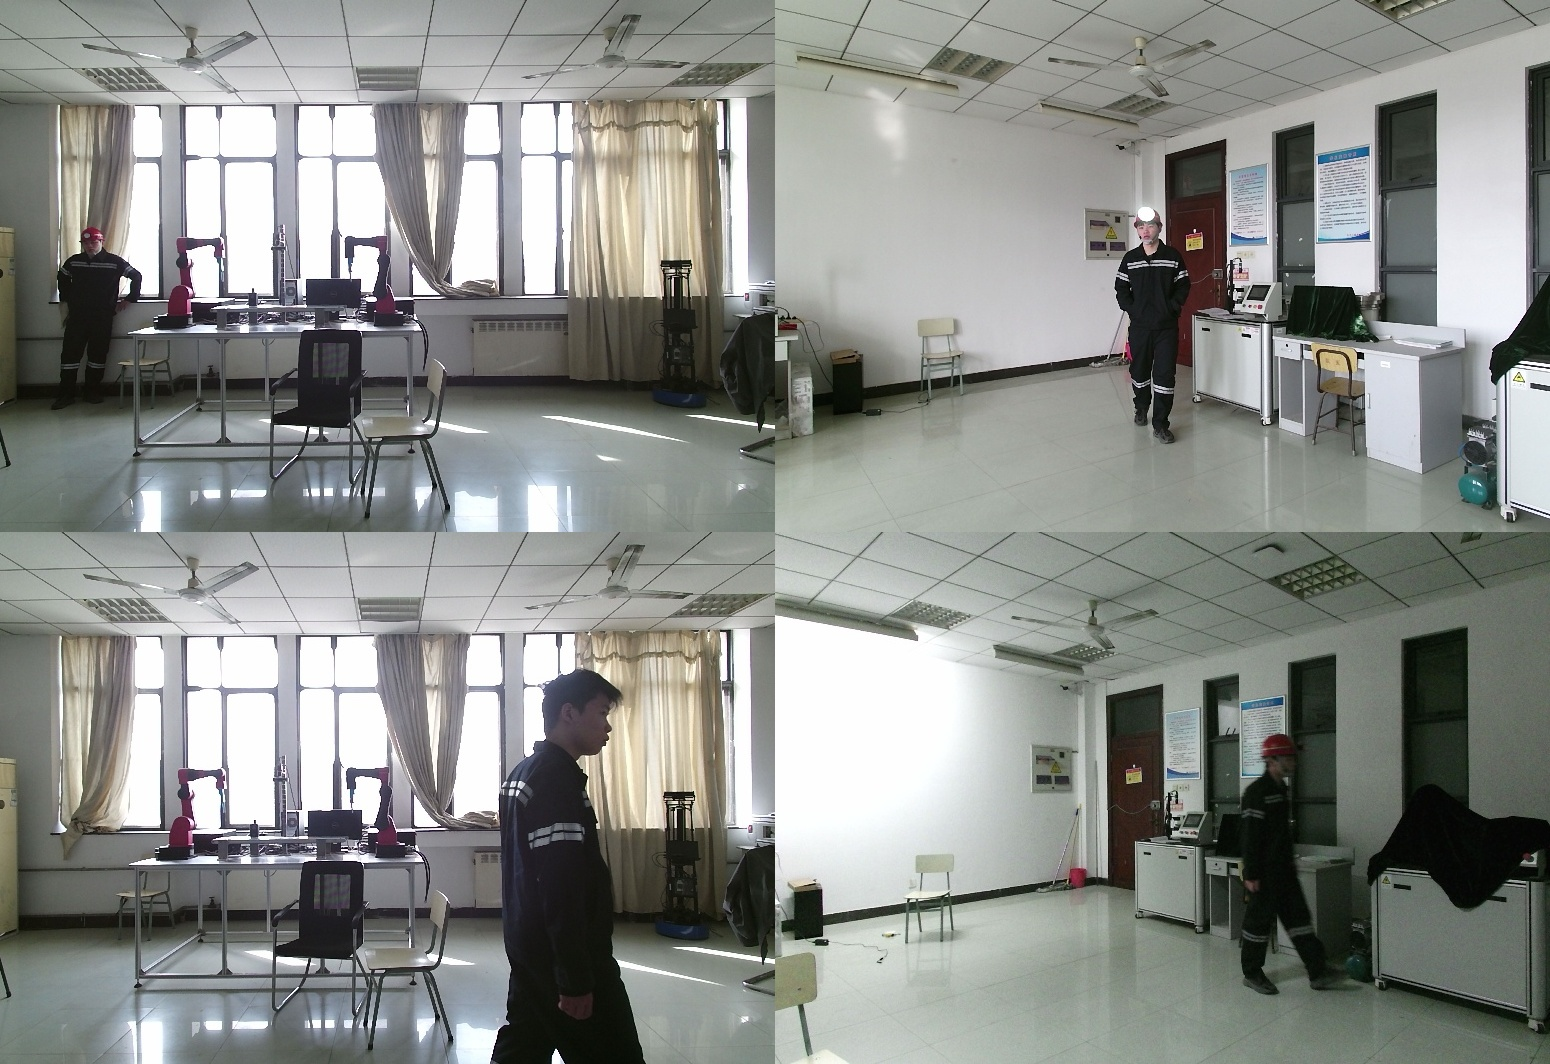person: (496, 674, 657, 1064), (1227, 734, 1335, 994), (1114, 213, 1197, 442), (53, 226, 142, 404)
